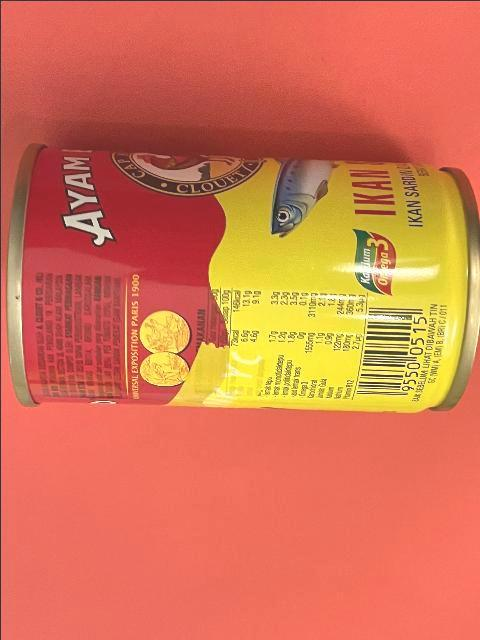foodcan: (4, 140, 480, 414)
